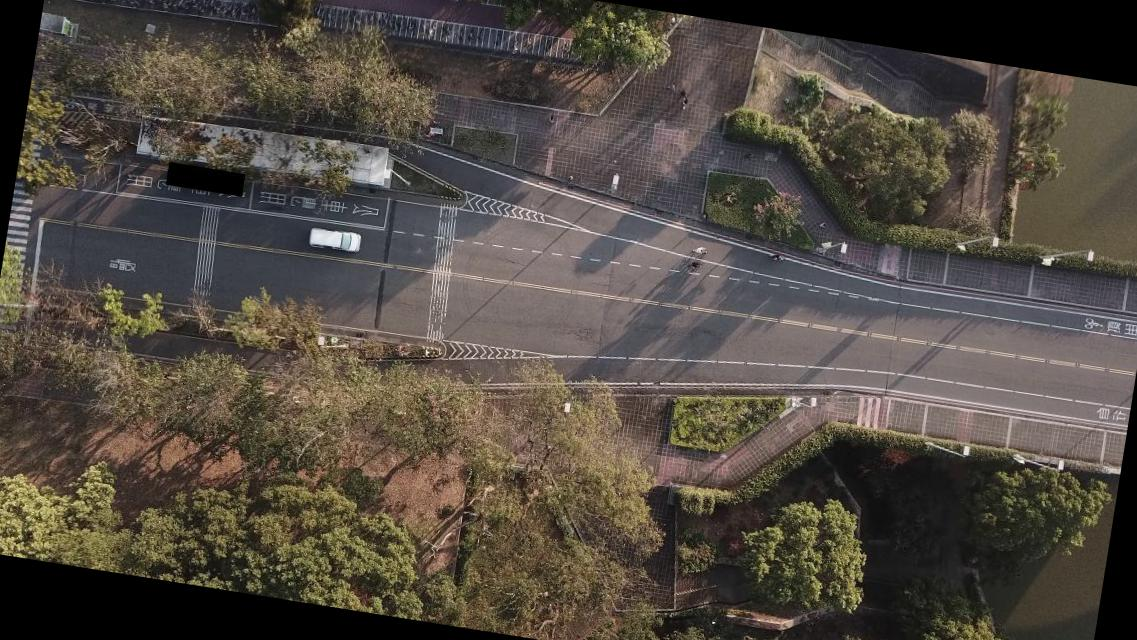vehicle: (307, 227, 362, 256)
